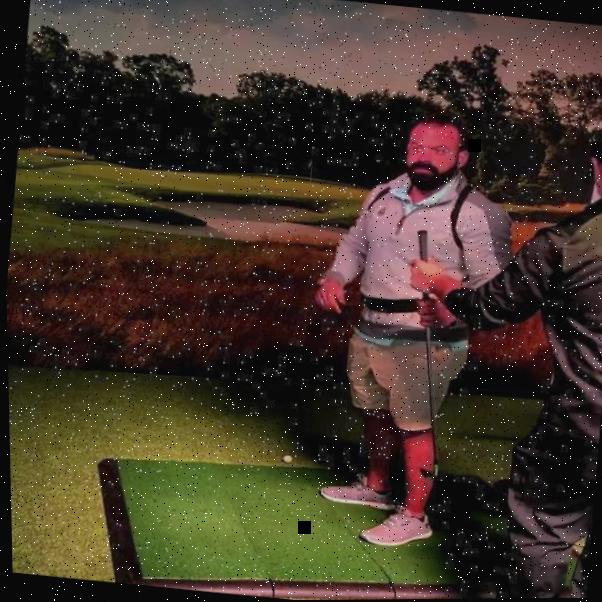ClubHead: (414, 464, 442, 483)
GolfBall: (277, 453, 291, 464)
